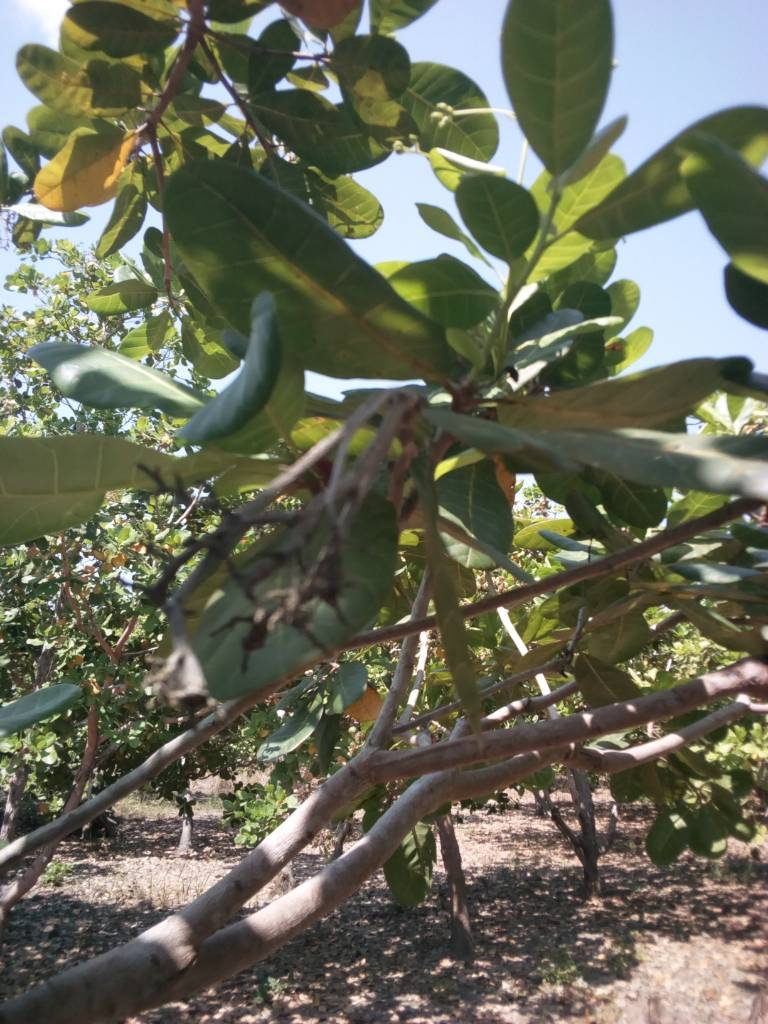Dessèchement des bourgeons: (133, 464, 354, 664)
